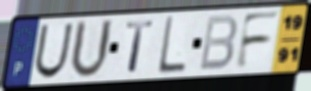B: (197, 13, 239, 73)
F: (233, 10, 283, 71)
L: (156, 15, 187, 76)
T: (124, 19, 156, 74)
U: (68, 18, 115, 81), (32, 22, 75, 81)
